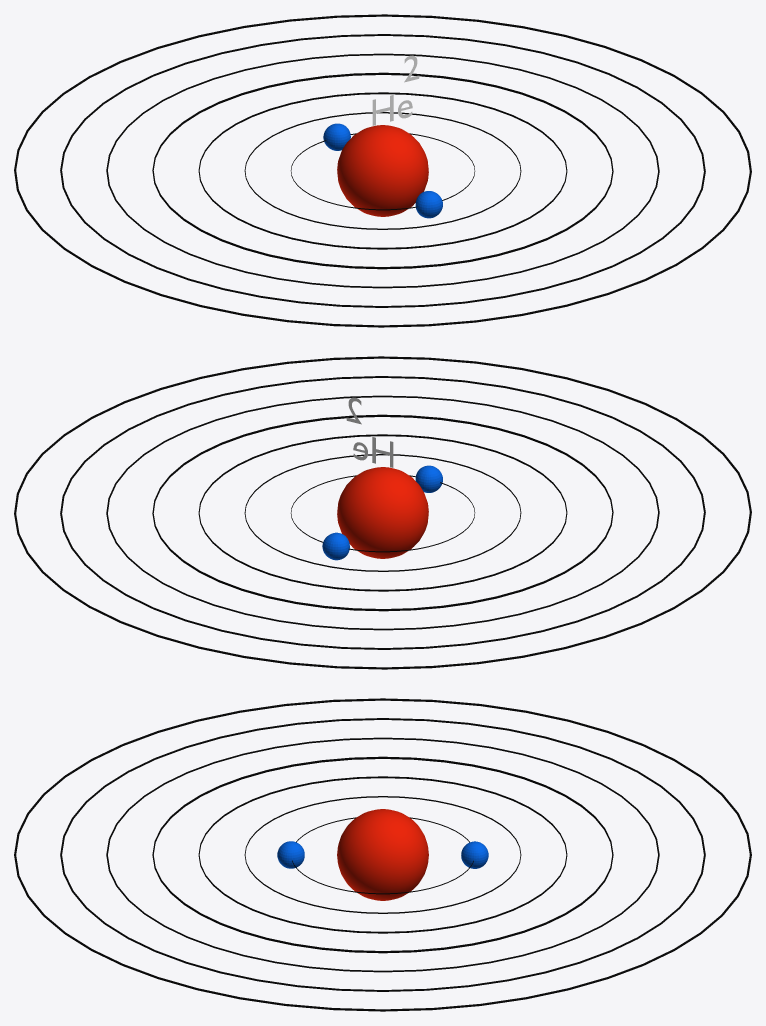
The picture shows the model from 3 angles, top to bottom: view 1: azimuth 30°, elevation 25°; view 2: azimuth 150°, elevation 25°; view 3: azimuth 270°, elevation 25°; orthographic projection.
Visible parts, largest first — view 1: Proton, n7, n6, n5, n4, n3, He1, n2; view 2: Proton, n7, n6, n5, n4, n3, He1, n2; view 3: Proton, n7, n6, n5, n4, n3, He1, n2, n1.
Boxes of the visible parts, box(x1,y1,x2,y2) form: Proton: box(337, 125, 428, 216); n7: box(14, 14, 751, 327); n6: box(60, 34, 705, 307); n5: box(106, 53, 659, 288); n4: box(152, 72, 613, 269); n3: box(198, 92, 567, 249); He1: box(323, 123, 442, 218); n2: box(244, 112, 521, 229); Proton: box(337, 467, 428, 558); n7: box(14, 356, 751, 669); n6: box(60, 376, 705, 649); n5: box(106, 395, 659, 630); n4: box(152, 414, 613, 611); n3: box(198, 434, 567, 591); He1: box(322, 465, 442, 560); n2: box(244, 454, 521, 571); Proton: box(337, 809, 428, 900); n7: box(14, 698, 751, 1011); n6: box(60, 718, 705, 991); n5: box(106, 737, 659, 972); n4: box(152, 756, 613, 953); n3: box(198, 776, 567, 933); He1: box(277, 841, 488, 868); n2: box(244, 796, 521, 913); n1: box(292, 817, 473, 894).
Size of the model in its own units: 802 by 180 by 802.
